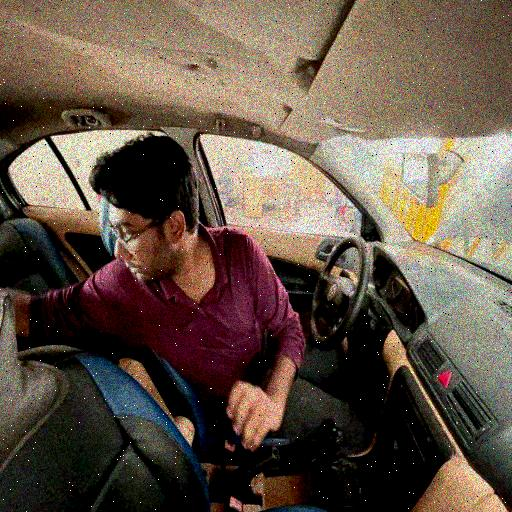Reaching_behind: (8, 132, 306, 456)
